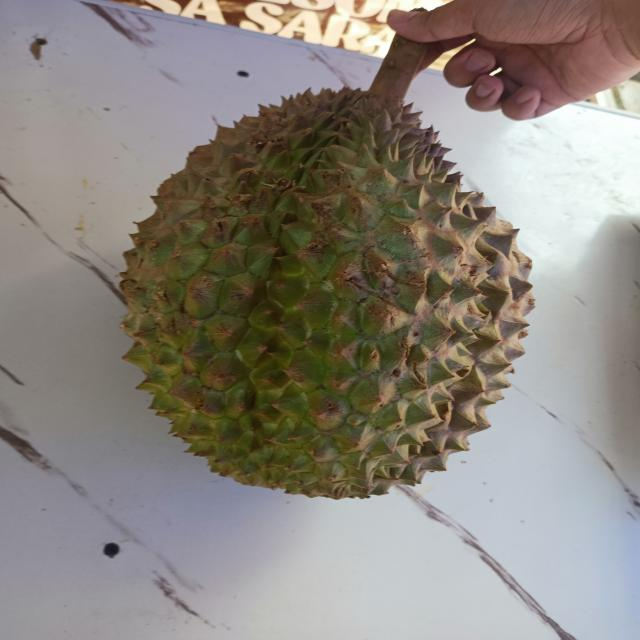mature: (114, 82, 518, 488)
